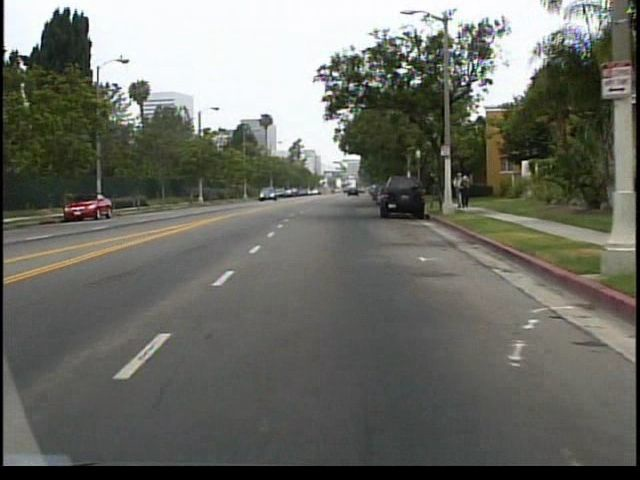person: (459, 173, 473, 209), (452, 169, 462, 211)
